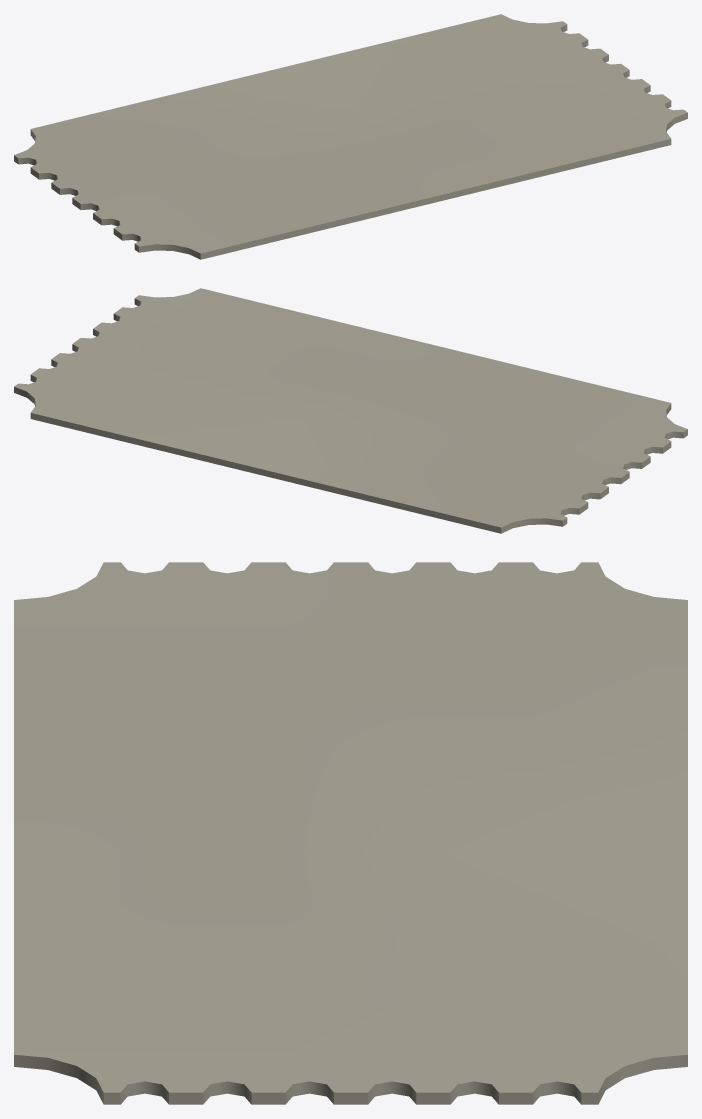
Rendered from ticket_stub.glb.
3 renders of one model, top to bottom at view 1: azimuth 30°, elevation 25°; view 2: azimuth 150°, elevation 25°; view 3: azimuth 270°, elevation 25°, orthographic. The views are drawn at different scales.
Parts seen in each view (by area): view 1: ticket_stub; view 2: ticket_stub; view 3: ticket_stub.
Part boxes in pixels (left/top/right/bottom): ticket_stub: left=14, top=14, right=687, bottom=259; ticket_stub: left=14, top=288, right=687, bottom=533; ticket_stub: left=14, top=562, right=687, bottom=1104.
Size of the model in its own units: 0.08 by 0.00086 by 0.043.
1 material, 1 textured.
